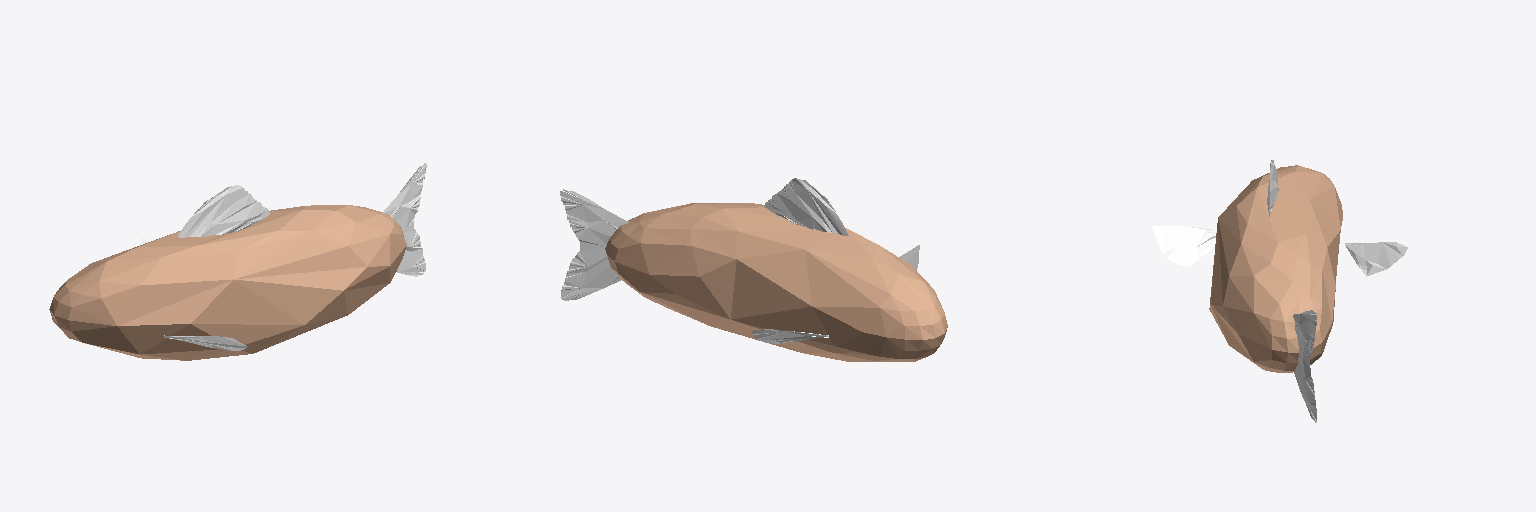
Rendered from fishRR.obj.
The picture shows the model from 3 angles: view 1: azimuth 30°, elevation 25°; view 2: azimuth 150°, elevation 25°; view 3: azimuth 270°, elevation 25°; orthographic projection.
Parts seen in each view (by area): view 1: Sphere001, object2, object9, object4; view 2: Sphere001, object9, object2, object5; view 3: Sphere001, object4, object9, object5.
Boxes of the visible parts, x1=… form: Sphere001: x1=49, y1=205, x2=406, y2=360; object2: x1=178, y1=185, x2=269, y2=237; object9: x1=383, y1=163, x2=426, y2=276; object4: x1=164, y1=335, x2=247, y2=350; Sphere001: x1=605, y1=203, x2=947, y2=361; object9: x1=560, y1=189, x2=628, y2=300; object2: x1=764, y1=178, x2=848, y2=235; object5: x1=751, y1=329, x2=828, y2=343; Sphere001: x1=1209, y1=165, x2=1342, y2=372; object4: x1=1152, y1=226, x2=1216, y2=266; object9: x1=1293, y1=310, x2=1316, y2=422; object5: x1=1345, y1=242, x2=1407, y2=276.
Bounding box in the file's own units: 3.56 × 1.44 × 2.09.